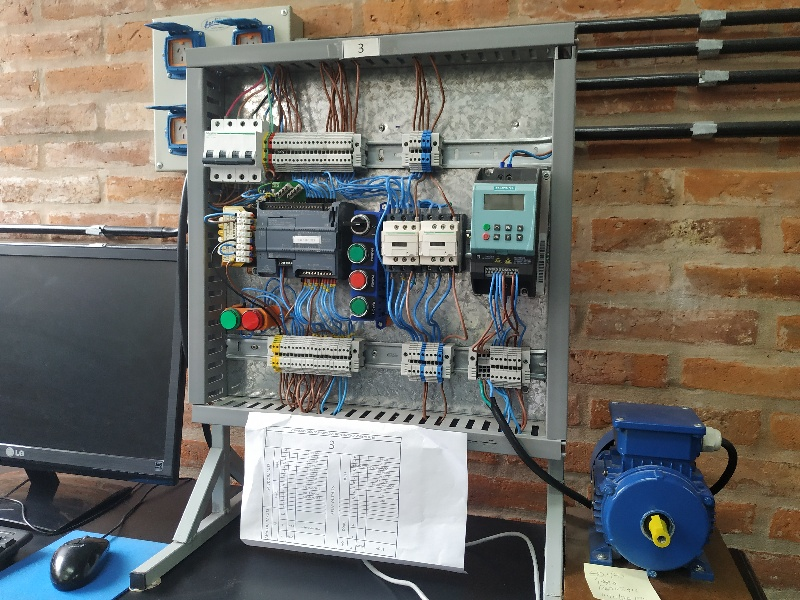Tablero 3: (198, 60, 552, 445)
